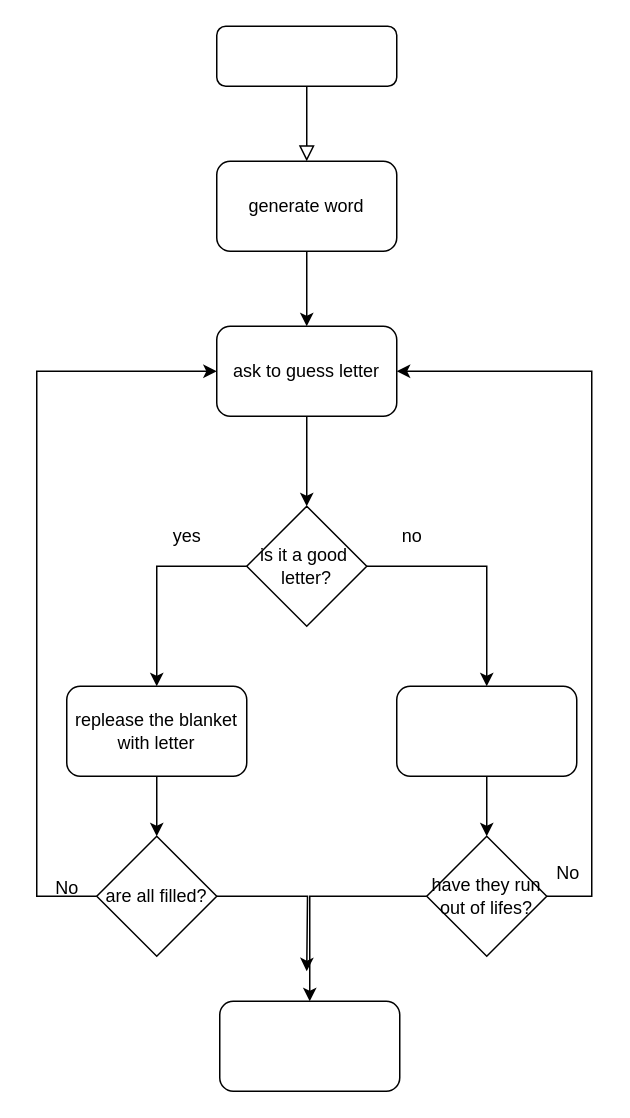
Image size: 630x1118. Some labels were removed from this diagram. The shapes that lost their labels are listed below. From the top down, each one's centre as x and y in pixels, then its label:
the point at 306,55: Start
the point at 486,730: loose a life
the point at 309,1045: game over
